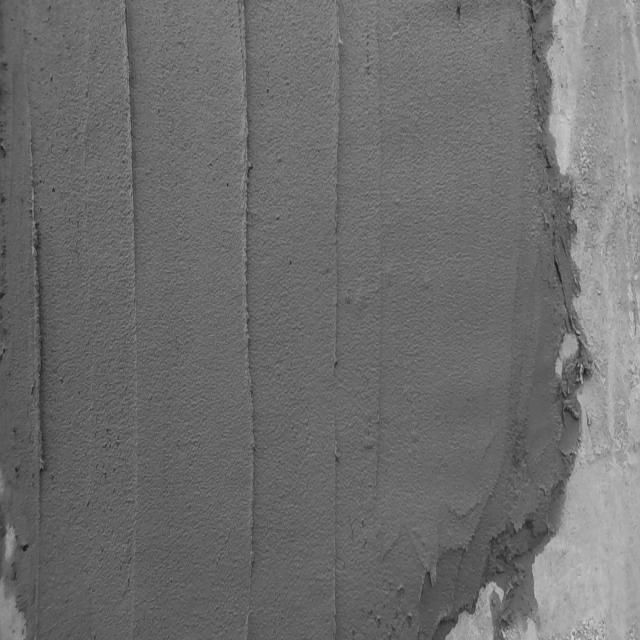trowels marks: (236, 4, 258, 591), (23, 108, 52, 542), (323, 4, 342, 640), (116, 0, 144, 307)
